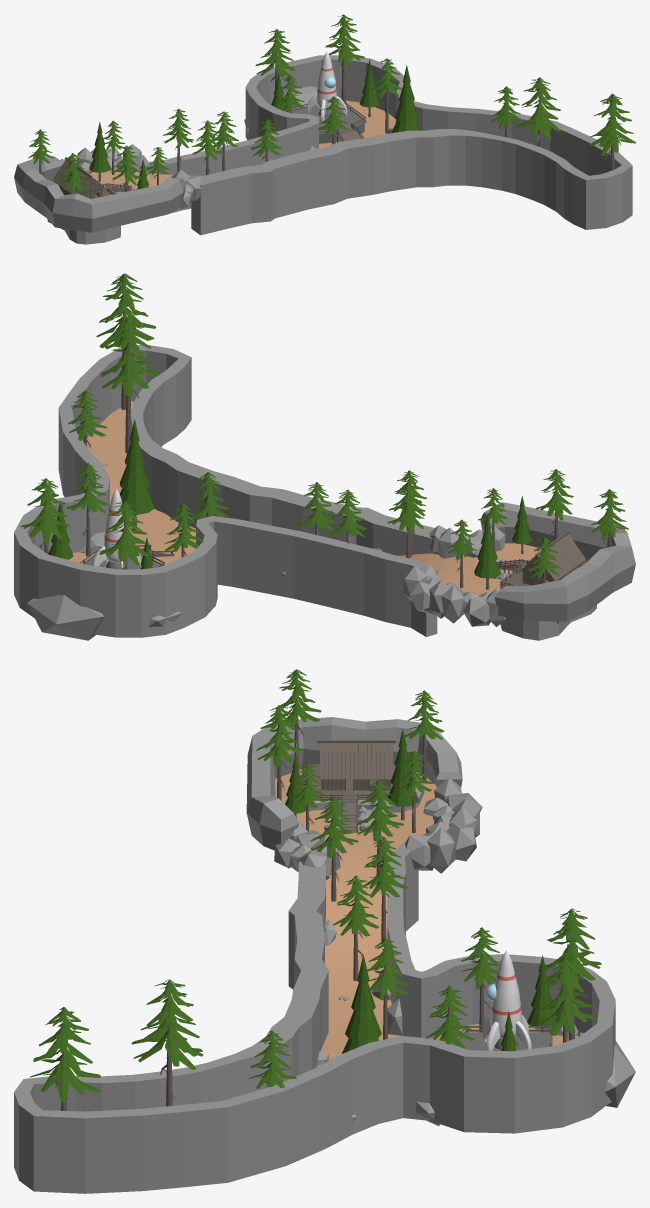
File: TestWelt.glb
3 views of the same model, one above another, from view 1: azimuth 30°, elevation 25°; view 2: azimuth 150°, elevation 25°; view 3: azimuth 270°, elevation 25° (orthographic). The views are drawn at different scales.
Visible parts, largest first — view 1: gestein, bäume, BasisHaus, Plane, RaketenPlattform, Rakete; view 2: gestein, bäume, Plane, BasisHaus, Rakete, RaketenPlattform; view 3: gestein, bäume, Plane, BasisHaus, Rakete, RaketenPlattform.
Boxes of the visible parts, box(x1,y1,x2,y2) form: gestein: box(14, 55, 632, 235); bäume: box(28, 14, 635, 193); BasisHaus: box(47, 157, 136, 244); Plane: box(90, 100, 395, 193); RaketenPlattform: box(287, 101, 366, 143); Rakete: box(307, 51, 347, 125); gestein: box(14, 345, 635, 640); bäume: box(20, 273, 628, 589); Plane: box(68, 401, 587, 595); BasisHaus: box(492, 530, 596, 640); Rakete: box(92, 489, 141, 569); RaketenPlattform: box(80, 544, 174, 569); gestein: box(14, 717, 635, 1193); bäume: box(30, 669, 601, 1110); Plane: box(275, 769, 578, 1066); BasisHaus: box(287, 740, 424, 832); Rakete: box(483, 950, 531, 1050); RaketenPlattform: box(444, 1025, 552, 1050).
Bounding box in the file's own units: 426 × 101 × 301.
